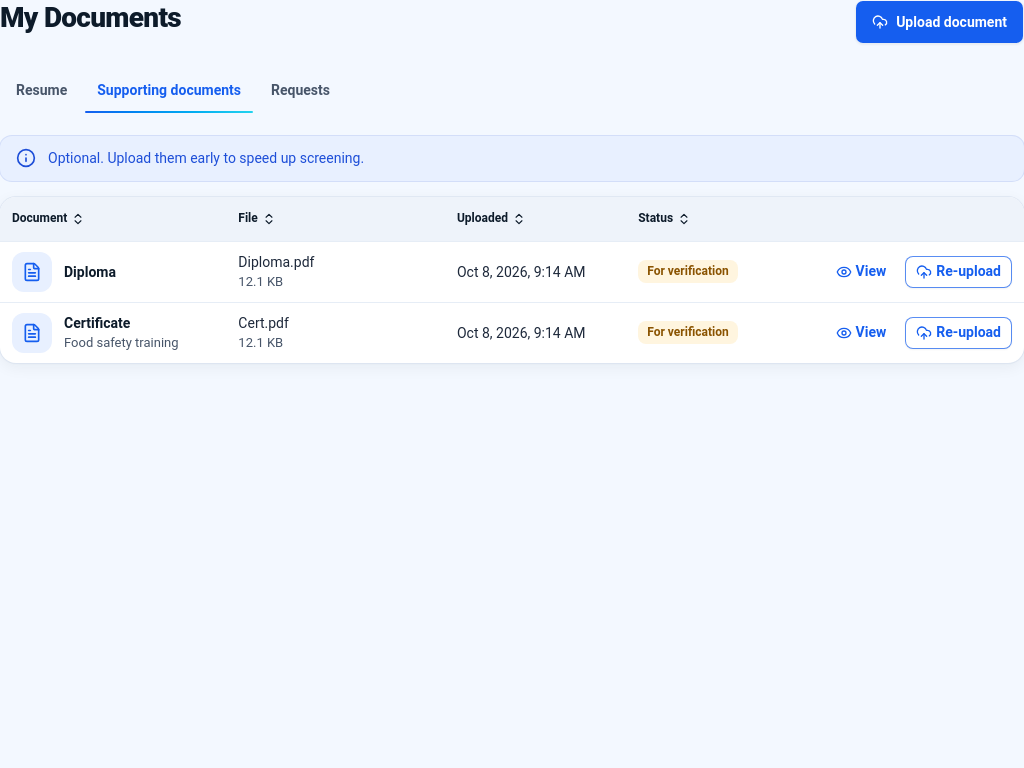
it: My Documents › warns that uploading a type you already have replaces it (TC-19)
Step 1. Click the button "Upload document" → x=940, y=22, box [855,0,1023,44]
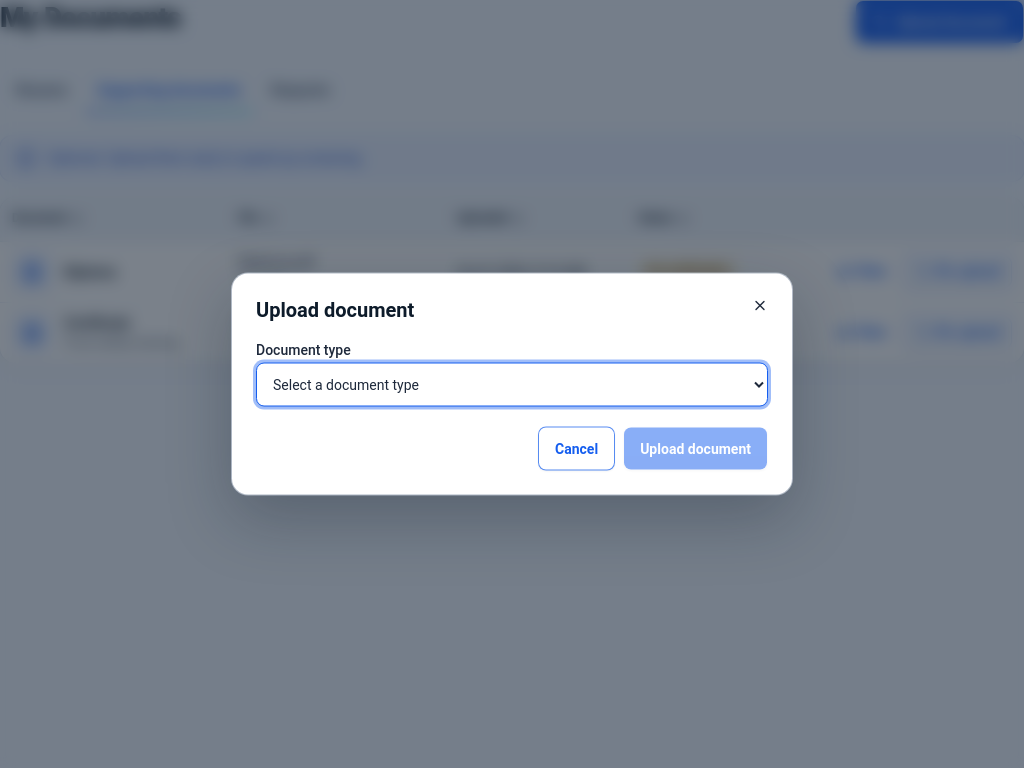
Step 2. Select "Diploma" in the dropdown labelled "Document type" → x=512, y=384, box [256,362,768,406]
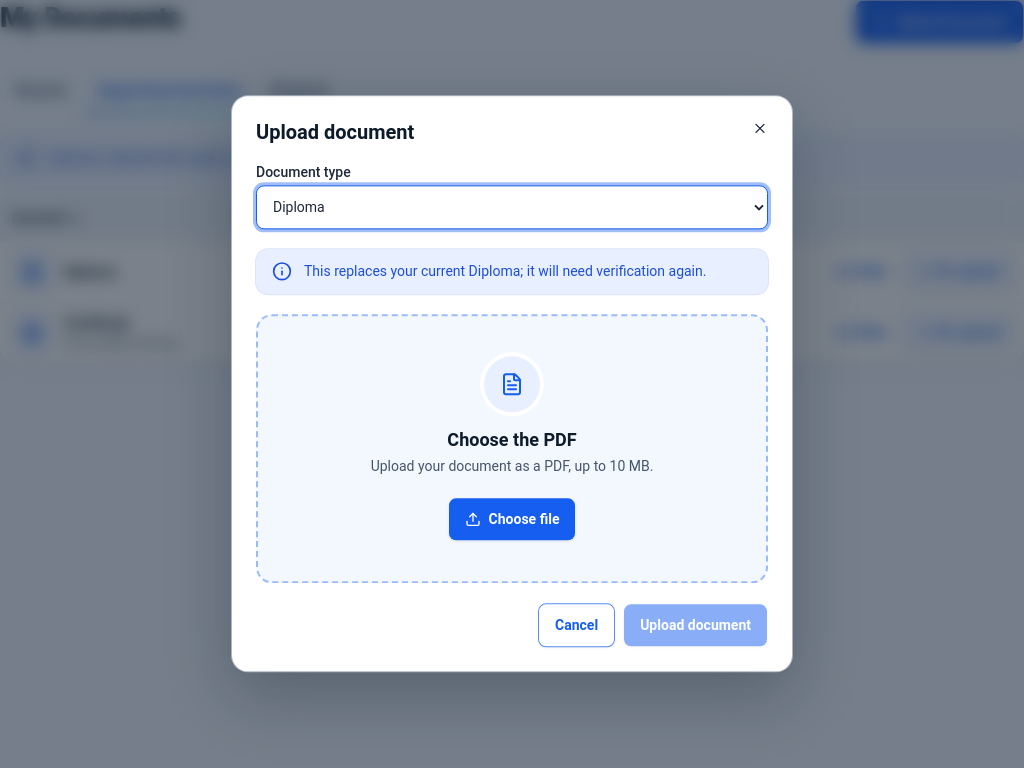
Now the text "This replaces your current Diploma" is shown, box [256,249,768,294]
